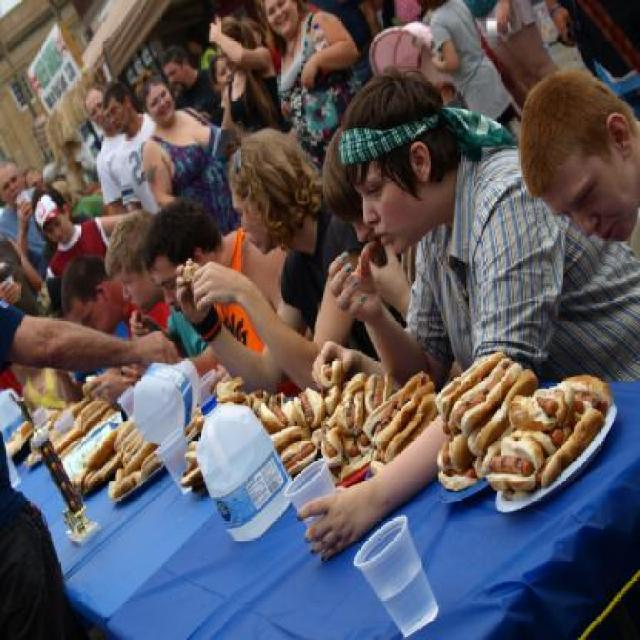Hot dog: (77, 358, 431, 500), (434, 353, 538, 490), (508, 376, 616, 490), (490, 440, 544, 494)
